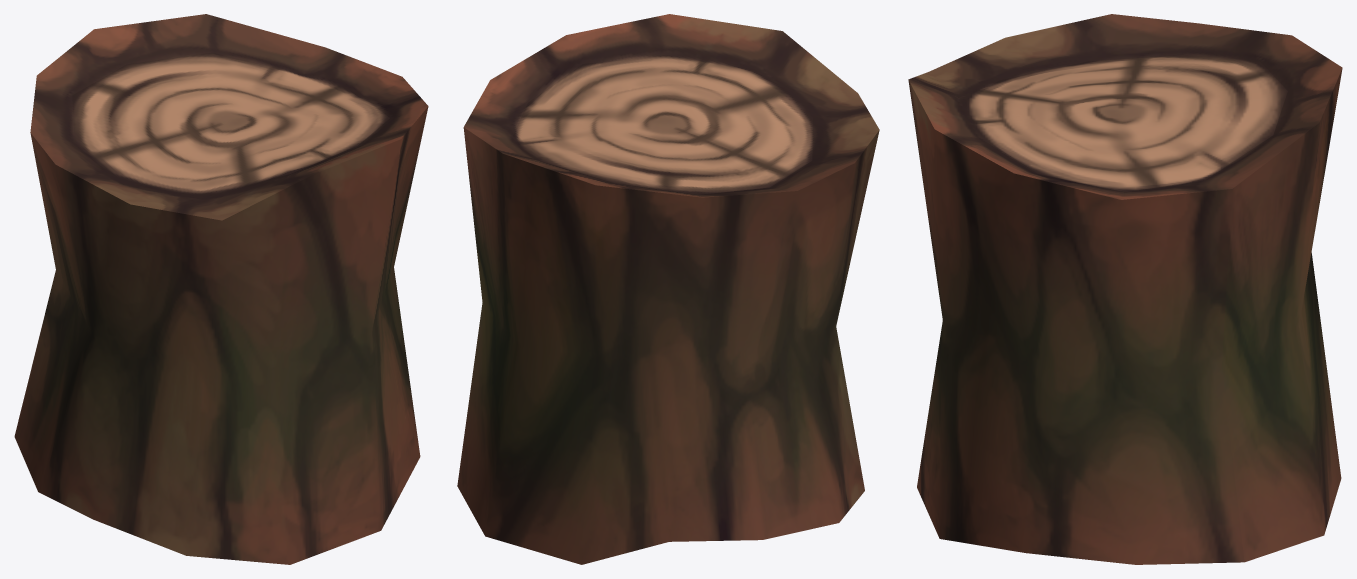
File: stump02.FBX
3 views of the same model, side by side, from view 1: azimuth 30°, elevation 25°; view 2: azimuth 150°, elevation 25°; view 3: azimuth 270°, elevation 25° (orthographic). The views are drawn at different scales.
Visible parts, largest first — view 1: stump02; view 2: stump02; view 3: stump02.
Part boxes in pixels (x1=…): stump02: x1=14, y1=14, x2=428, y2=564; stump02: x1=457, y1=14, x2=879, y2=564; stump02: x1=908, y1=14, x2=1342, y2=564.
Size of the model in its own units: 8.48 by 8.98 by 8.4.
